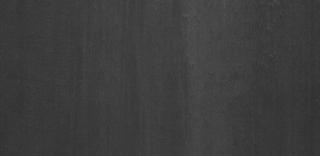silk spot: (232, 10, 286, 68)
